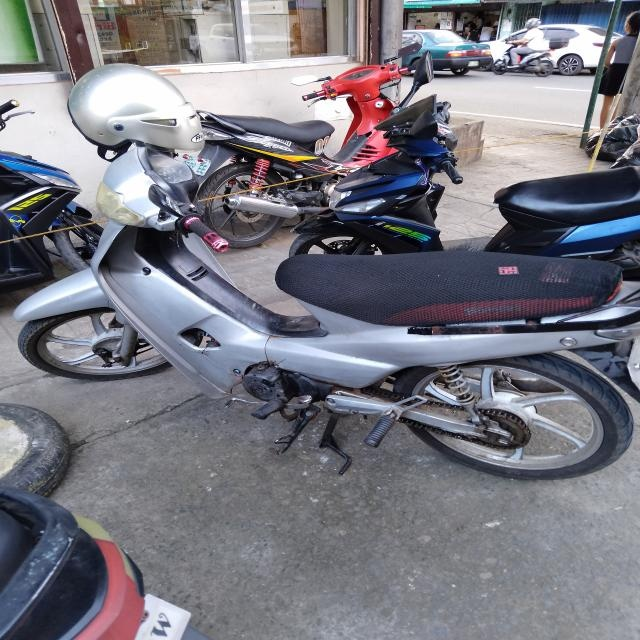Motorcycle: (8, 130, 640, 482), (279, 90, 640, 319), (182, 36, 434, 252)
